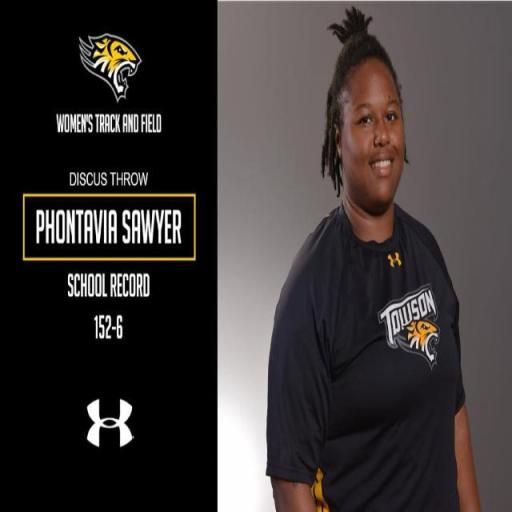Under Armour: (82, 391, 137, 453), (386, 251, 404, 268)
